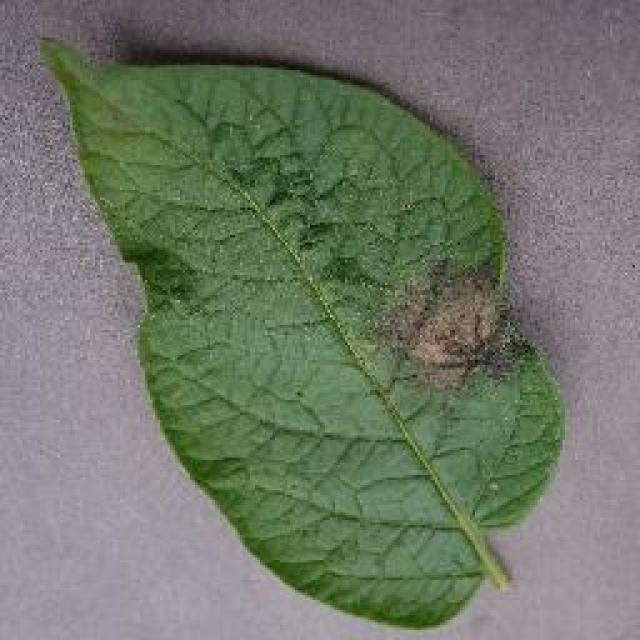late_blight: (32, 30, 568, 635)
